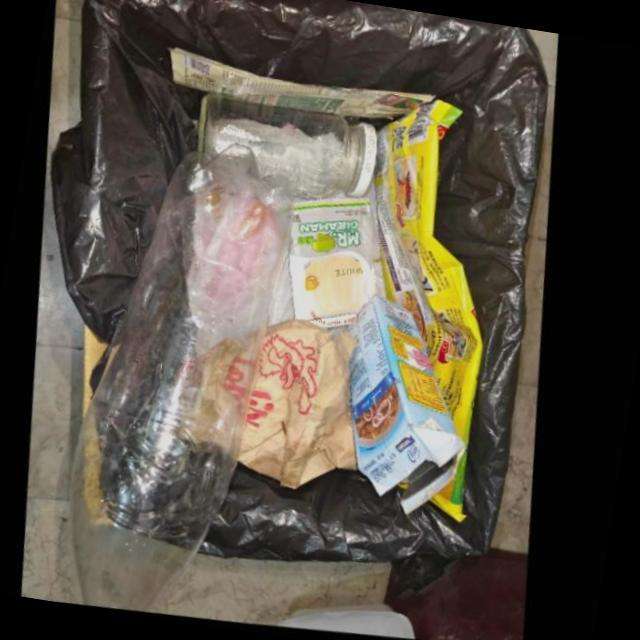bao_bi_thuc_pham: (381, 106, 486, 527), (178, 52, 443, 125)
chai_nhua_pet: (72, 147, 300, 614)
chai_thuy_tinh: (205, 99, 384, 203)
giay: (240, 323, 362, 493)
goi_nhua_nho: (294, 203, 381, 334)
vo_hop_sua: (352, 299, 469, 520)
